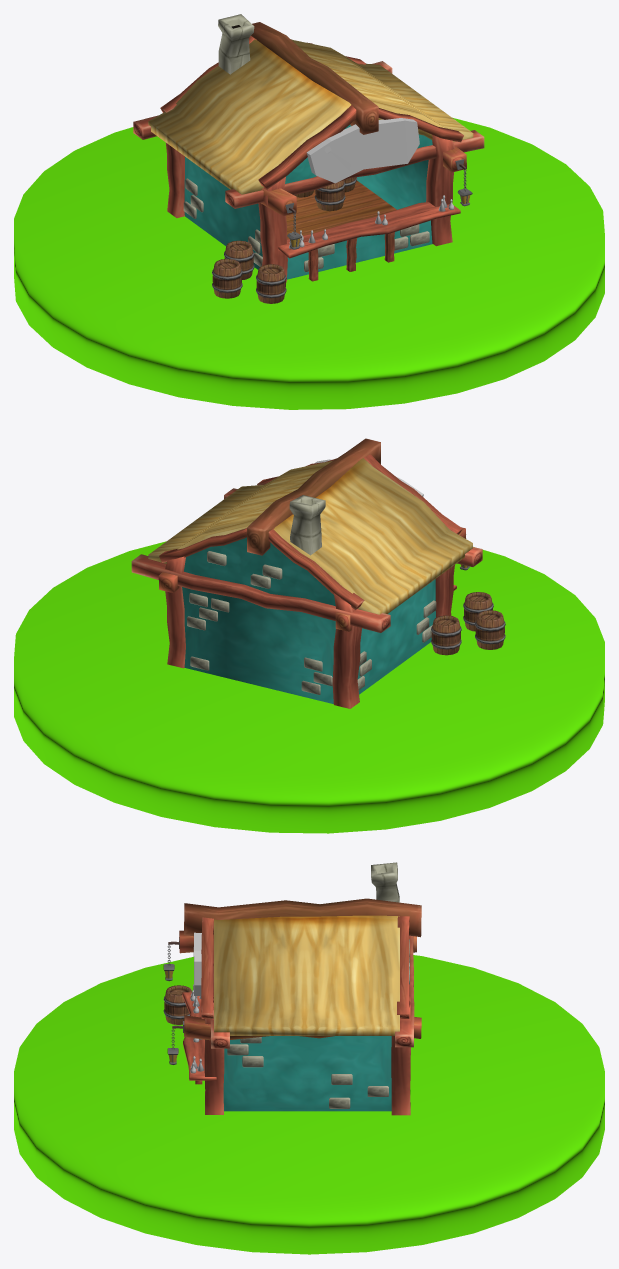
The model's file is Medieval House_fbx_Scene_Master_Collection.fbx.
3 renders of one model, top to bottom at view 1: azimuth 30°, elevation 25°; view 2: azimuth 150°, elevation 25°; view 3: azimuth 270°, elevation 25°, orthographic.
Visible parts, largest first — view 1: Cylinder, House, Shop Sign, Barrel, Barrel.001, Barrel.002, Barrel.005; view 2: Cylinder, House, Barrel.001, Barrel.002, Barrel; view 3: Cylinder, House, Barrel.
Boxes of the visible parts, bbox=[...] form: Cylinder: bbox=[14, 117, 604, 409]; House: bbox=[133, 14, 484, 282]; Shop Sign: bbox=[306, 118, 419, 183]; Barrel: bbox=[256, 264, 286, 303]; Barrel.001: bbox=[212, 258, 242, 298]; Barrel.002: bbox=[224, 240, 254, 279]; Barrel.005: bbox=[314, 180, 345, 211]; Cylinder: bbox=[14, 541, 604, 833]; House: bbox=[131, 438, 482, 708]; Barrel.001: bbox=[475, 610, 505, 649]; Barrel.002: bbox=[431, 615, 461, 655]; Barrel: bbox=[463, 592, 493, 631]; Cylinder: bbox=[14, 955, 604, 1254]; House: bbox=[179, 862, 421, 1115]; Barrel: bbox=[163, 985, 191, 1024].
Bounding box in the file's own units: 1843 × 841 × 1843.
